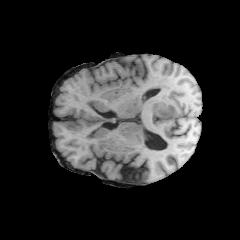glioma: (90, 78, 177, 123)
